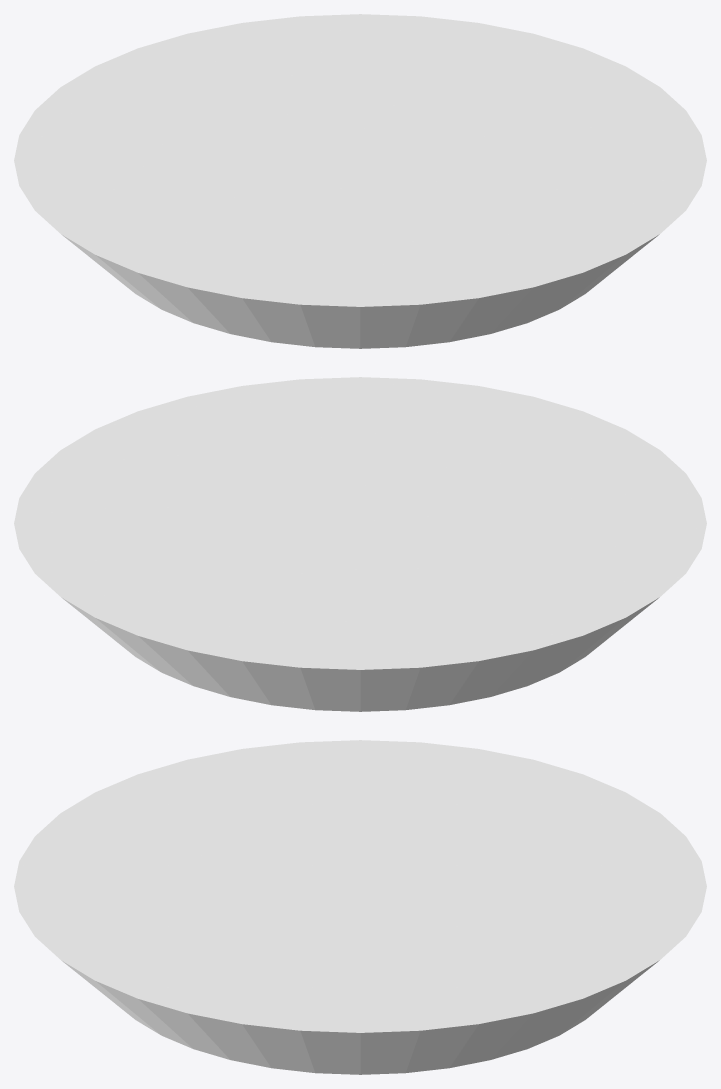
Rendered from plate.obj.
3 views of the same model, one above another, from view 1: azimuth 30°, elevation 25°; view 2: azimuth 150°, elevation 25°; view 3: azimuth 270°, elevation 25° (orthographic).
Visible parts, largest first — view 1: Plate_Cone.001; view 2: Plate_Cone.001; view 3: Plate_Cone.001.
Part boxes in pixels (x1,y1,x2,y2): Plate_Cone.001: [14, 14, 706, 348]; Plate_Cone.001: [14, 377, 706, 711]; Plate_Cone.001: [14, 740, 706, 1074].
Bounding box in the file's own units: 0.4 × 0.05 × 0.4.
